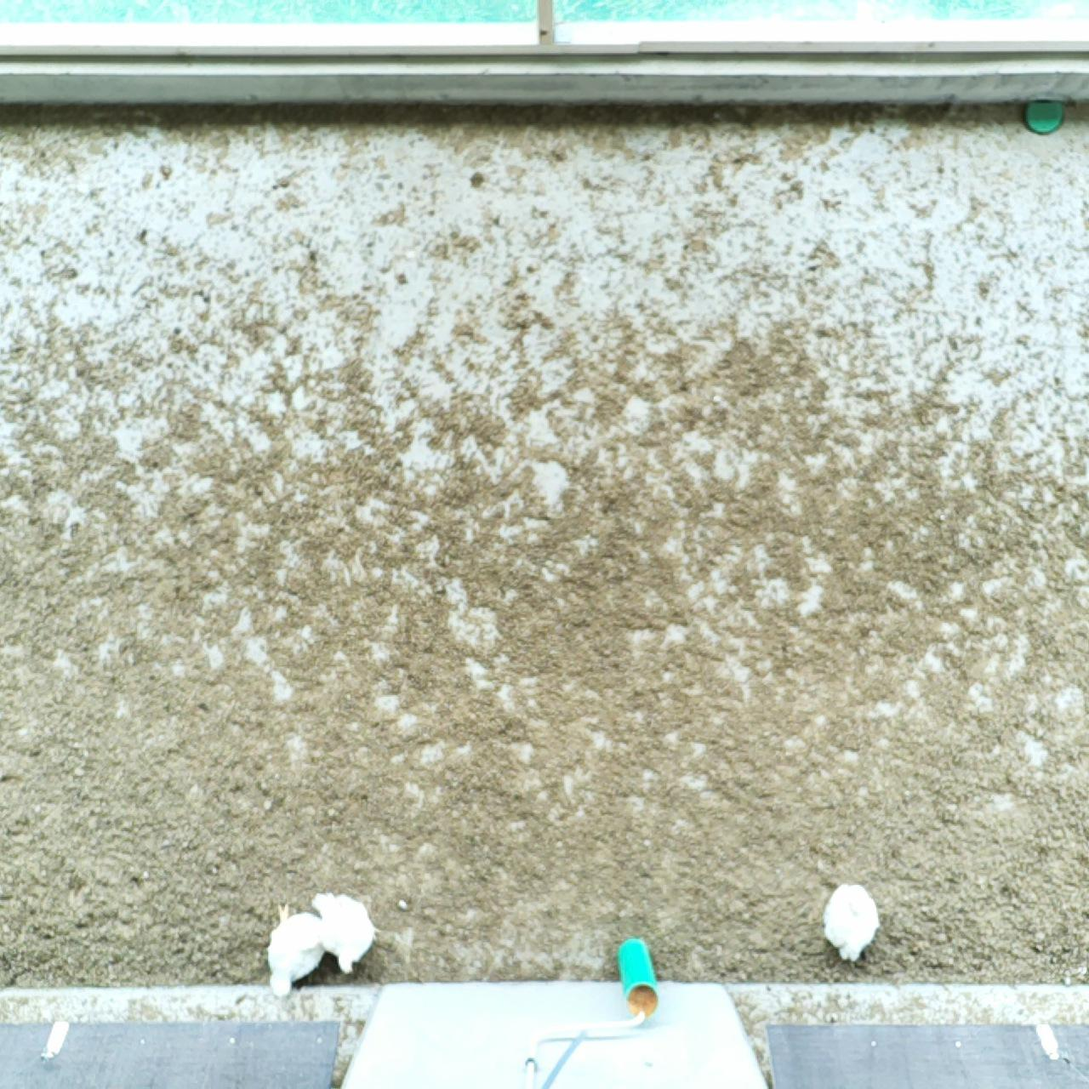chicken: (312, 890, 385, 974), (270, 901, 331, 996), (826, 883, 878, 962)
